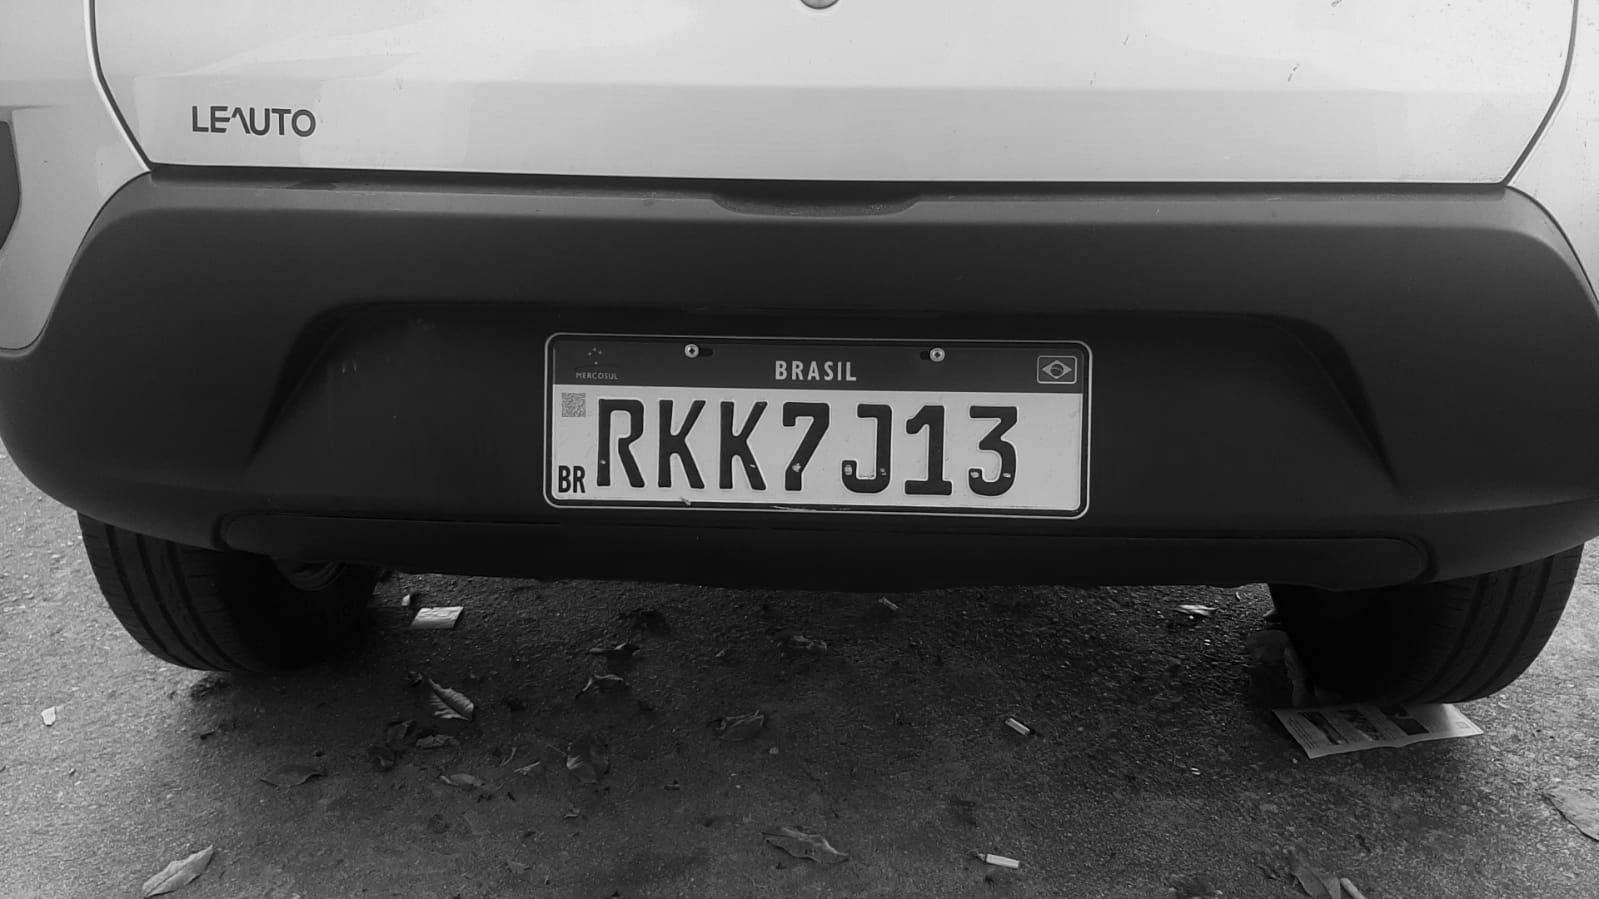placa_mercosul: (545, 335, 1089, 518)
